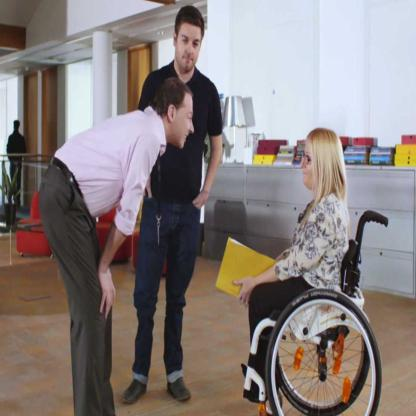wheelchair: (243, 127, 390, 415)
